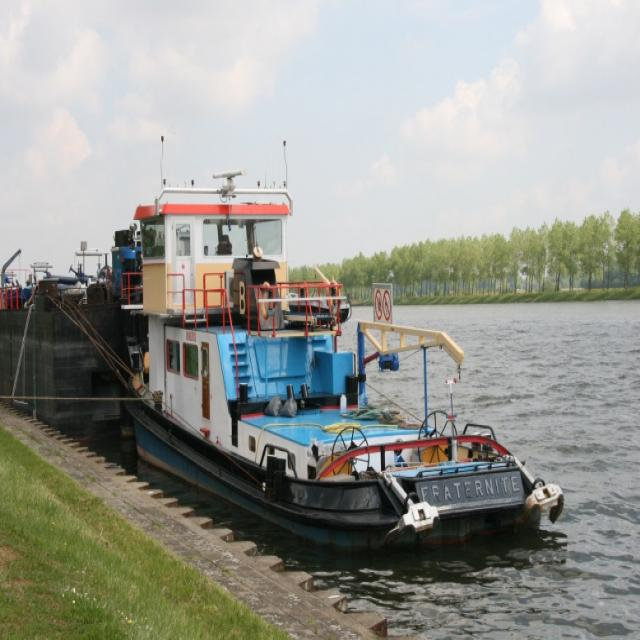tugboat: (115, 133, 569, 579)
